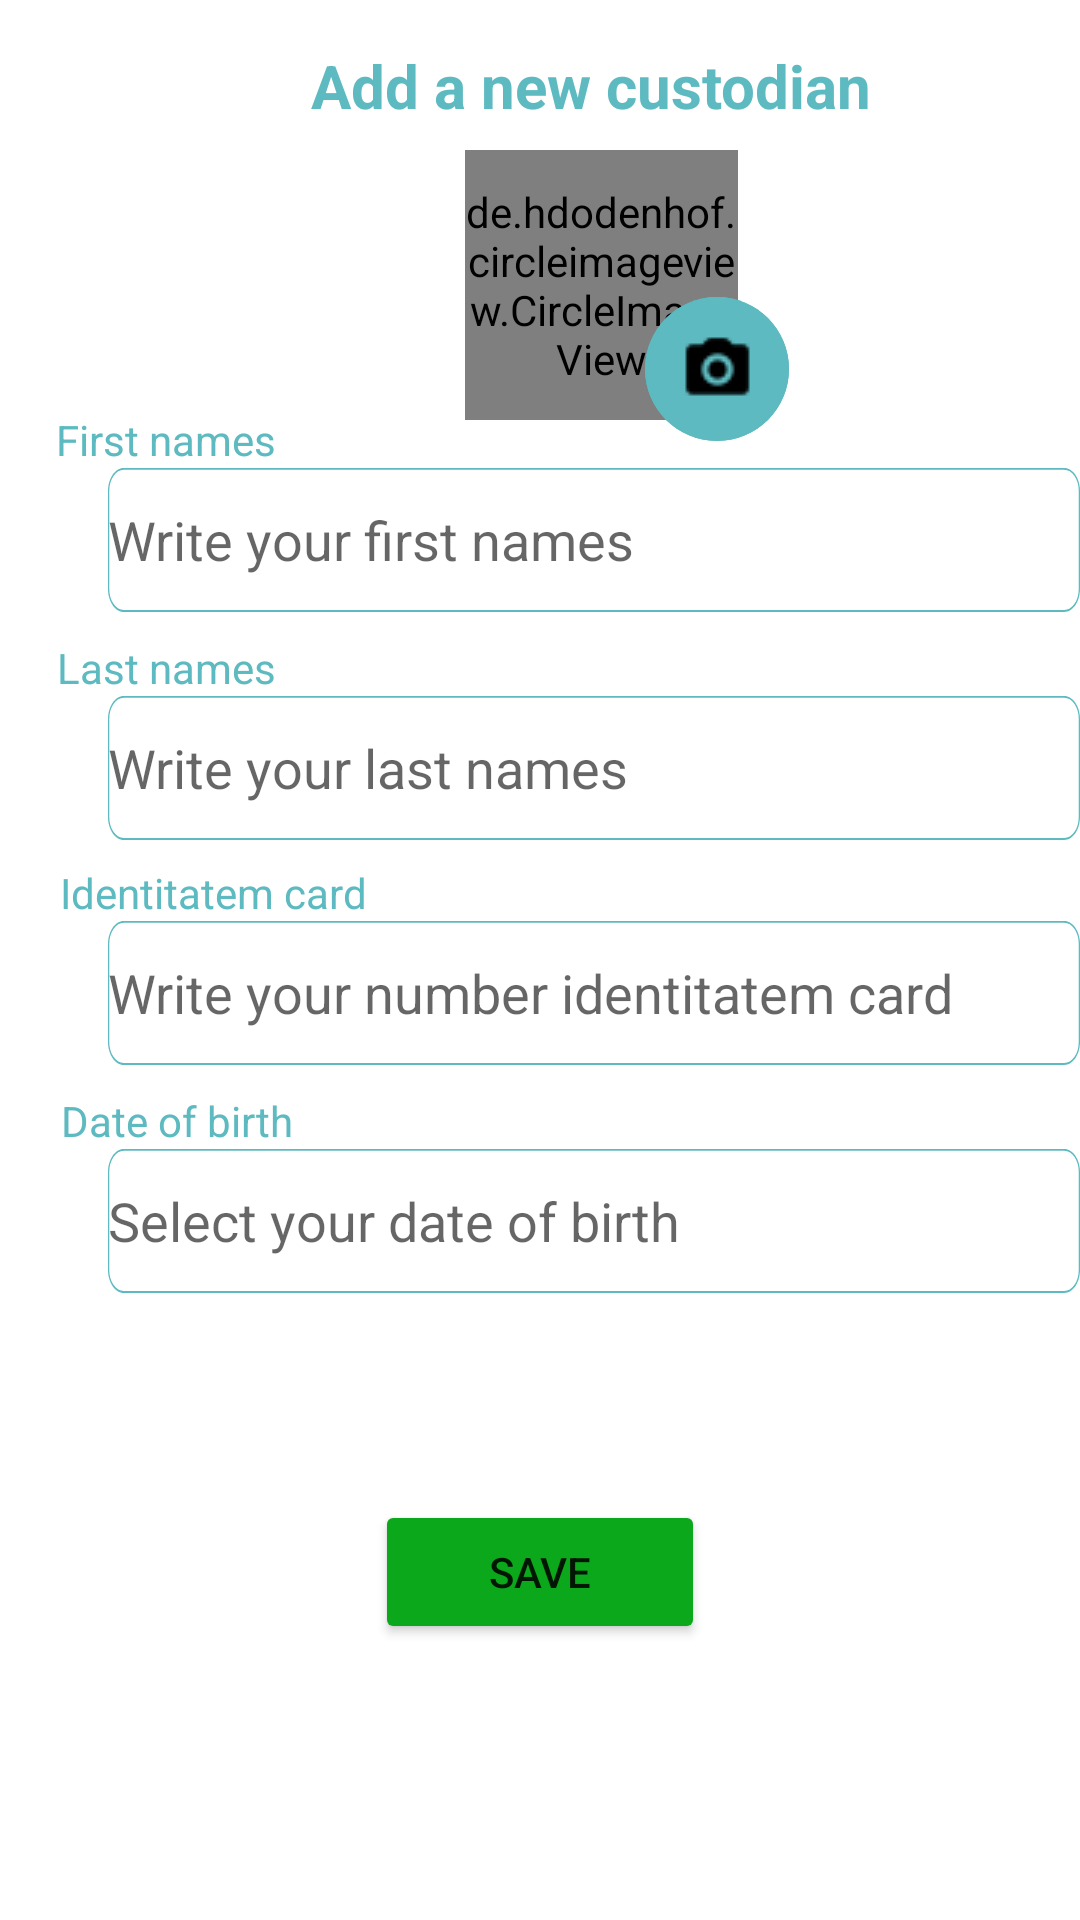

Icons on this 1080px x 1920px Android screen, each with its box as [left=x1, top=y1, right=x2, bottom=y2]:
cam negra: [left=645, top=297, right=789, bottom=441]
